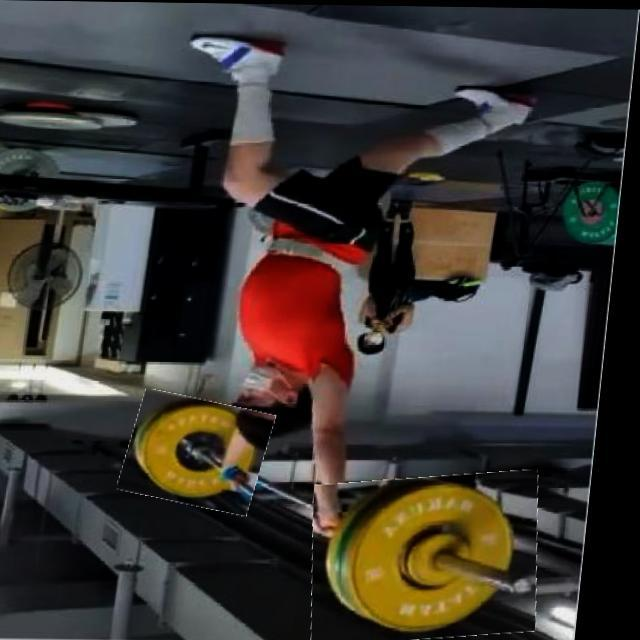barbell: (316, 471, 559, 640), (130, 394, 283, 510)
